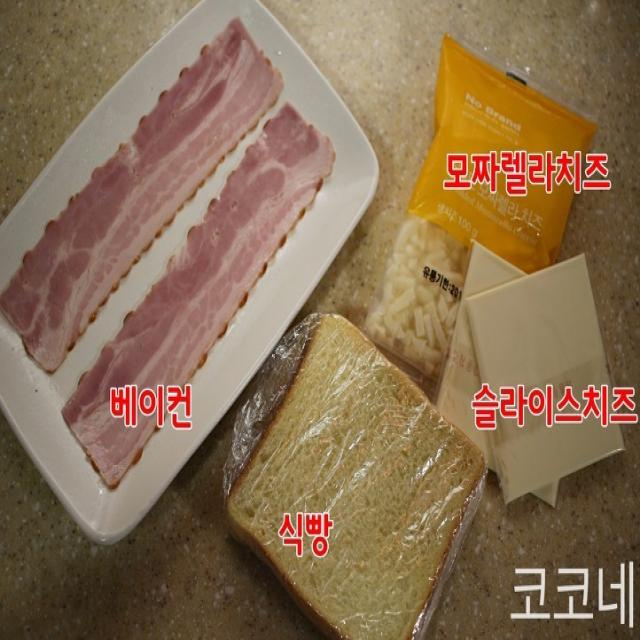bacon: (16, 47, 330, 335)
bread: (249, 322, 460, 637)
cheese: (449, 240, 636, 500)
mozzarella cheese: (389, 35, 572, 339)
